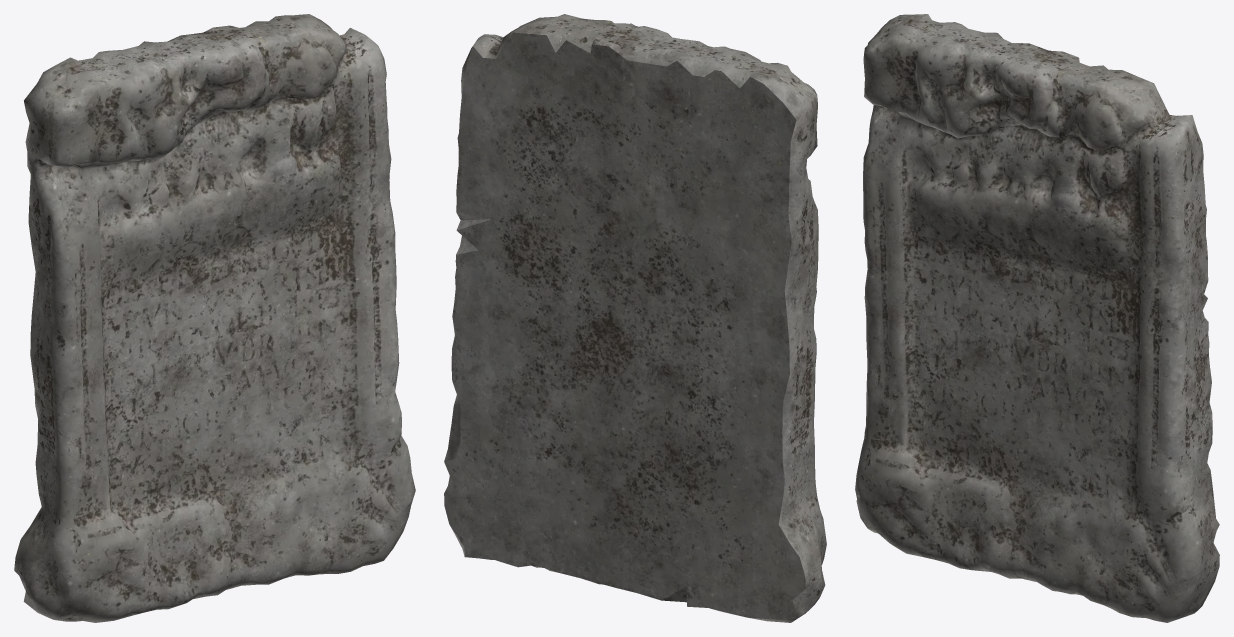
File: stele-bordeaux.glb
The picture shows the model from 3 angles, left to right: view 1: azimuth 30°, elevation 25°; view 2: azimuth 150°, elevation 25°; view 3: azimuth 330°, elevation 25°; orthographic projection. The views are drawn at different scales.
Parts seen in each view (by area): view 1: Bordeaux; view 2: Bordeaux; view 3: Bordeaux.
Boxes of the visible parts, x1=… form: Bordeaux: x1=14, y1=14, x2=415, y2=622; Bordeaux: x1=444, y1=14, x2=826, y2=622; Bordeaux: x1=855, y1=14, x2=1219, y2=622.
Bounding box in the file's own units: 2.46 × 3.5 × 0.4547.
Materials: 1 (1 with a texture image).
